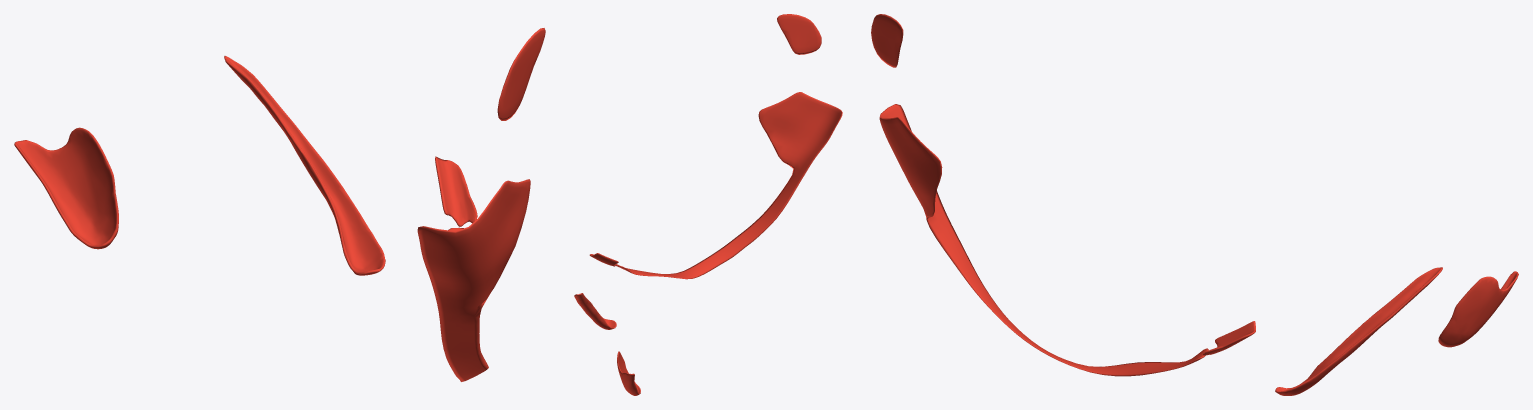
File: Internal_abdominal_oblique-Thoracic_insertions.l_Generated_Mesh.glb
3 views of the same model, side by side, from view 1: azimuth 30°, elevation 25°; view 2: azimuth 150°, elevation 25°; view 3: azimuth 270°, elevation 25° (orthographic). The views are drawn at different scales.
Visible parts, largest first — view 1: Internal_abdominal_oblique-Thoracic_insertions.l_Generated_M; view 2: Internal_abdominal_oblique-Thoracic_insertions.l_Generated_M; view 3: Internal_abdominal_oblique-Thoracic_insertions.l_Generated_M.
Boxes of the visible parts, x1=… form: Internal_abdominal_oblique-Thoracic_insertions.l_Generated_M: x1=14, y1=28, x2=545, y2=381; Internal_abdominal_oblique-Thoracic_insertions.l_Generated_M: x1=574, y1=14, x2=842, y2=395; Internal_abdominal_oblique-Thoracic_insertions.l_Generated_M: x1=871, y1=14, x2=1518, y2=395.
Size of the model in its own units: 0.0534 by 0.0883 by 0.1467.
